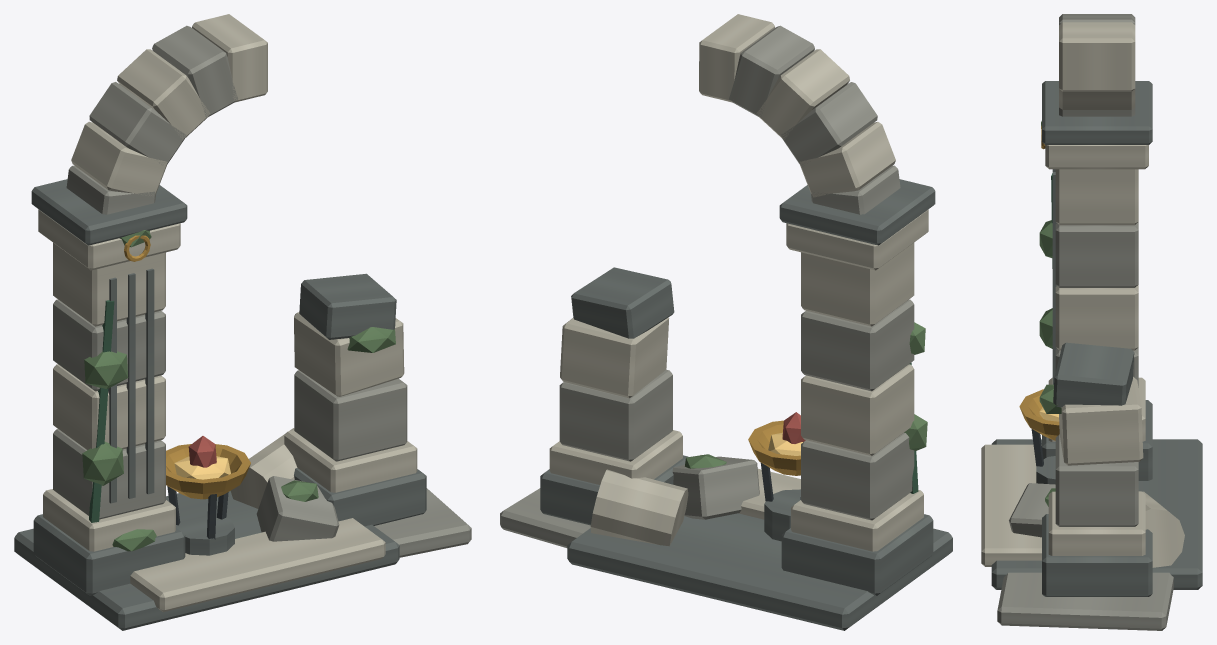
File: ancient_ruin_arch.glb
3 views of the same model, side by side, from view 1: azimuth 30°, elevation 25°; view 2: azimuth 150°, elevation 25°; view 3: azimuth 270°, elevation 25° (orthographic). The views are drawn at different scales.
Parts seen in each view (by area): view 1: ancient_ruin_arch; view 2: ancient_ruin_arch; view 3: ancient_ruin_arch.
Boxes of the visible parts, box(x1,y1,x2,y2) form: ancient_ruin_arch: box(14, 14, 471, 630); ancient_ruin_arch: box(500, 14, 952, 630); ancient_ruin_arch: box(981, 14, 1202, 630).
Bounding box in the file's own units: 2.43 × 3.23 × 1.28.
Materials: 1 (1 with a texture image).
